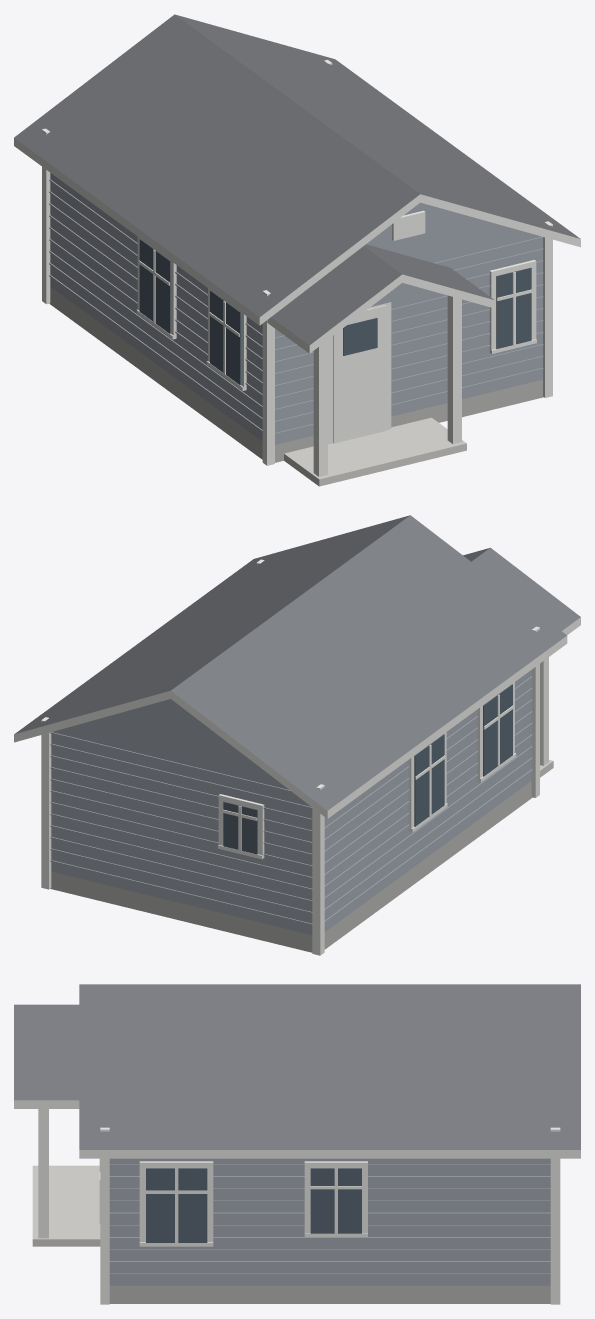
The model's file is apricot-cottage.glb.
The picture shows the model from 3 angles, top to bottom: view 1: azimuth 30°, elevation 25°; view 2: azimuth 150°, elevation 25°; view 3: azimuth 270°, elevation 25°; orthographic projection. The views are drawn at different scales.
Parts seen in each view (by area): view 1: The Apricot (cottage); view 2: The Apricot (cottage); view 3: The Apricot (cottage).
Part boxes in pixels (x1,y1,x2,y2): The Apricot (cottage): (14,14,580,486); The Apricot (cottage): (14,515,580,955); The Apricot (cottage): (14,984,580,1304).
Size of the model in its own units: 5.64 by 4.11 by 8.44.
